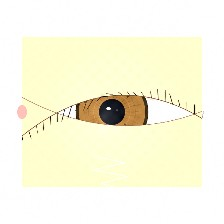foreign_body_visible: (78, 73, 100, 91)
